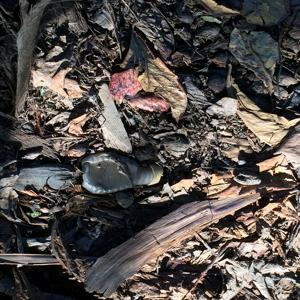plastic: (118, 70, 184, 123)
plastic bottle: (78, 151, 168, 192)
